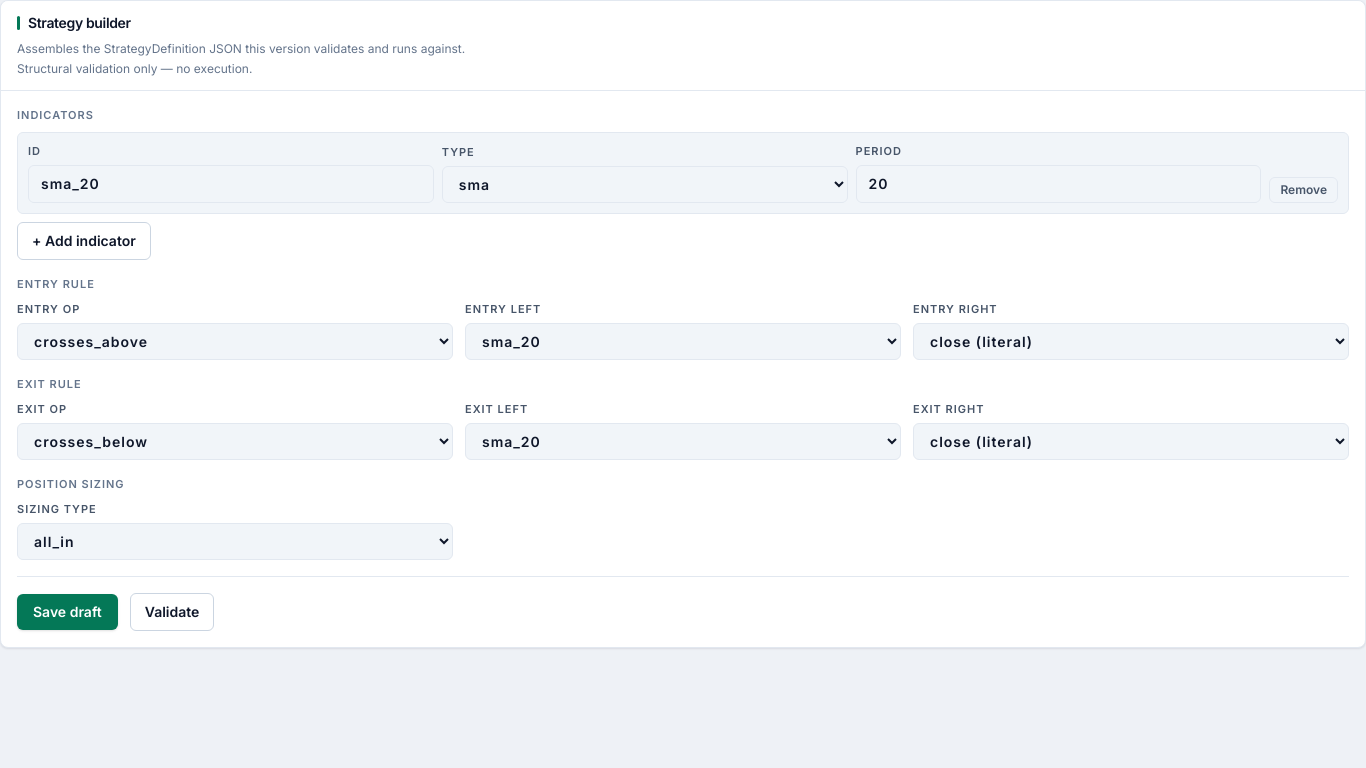
it: StrategyBuilderForm › adds an indicator row with sensible defaults
Click the button "+ Add indicator" at [84, 241], box [17,222,151,260]
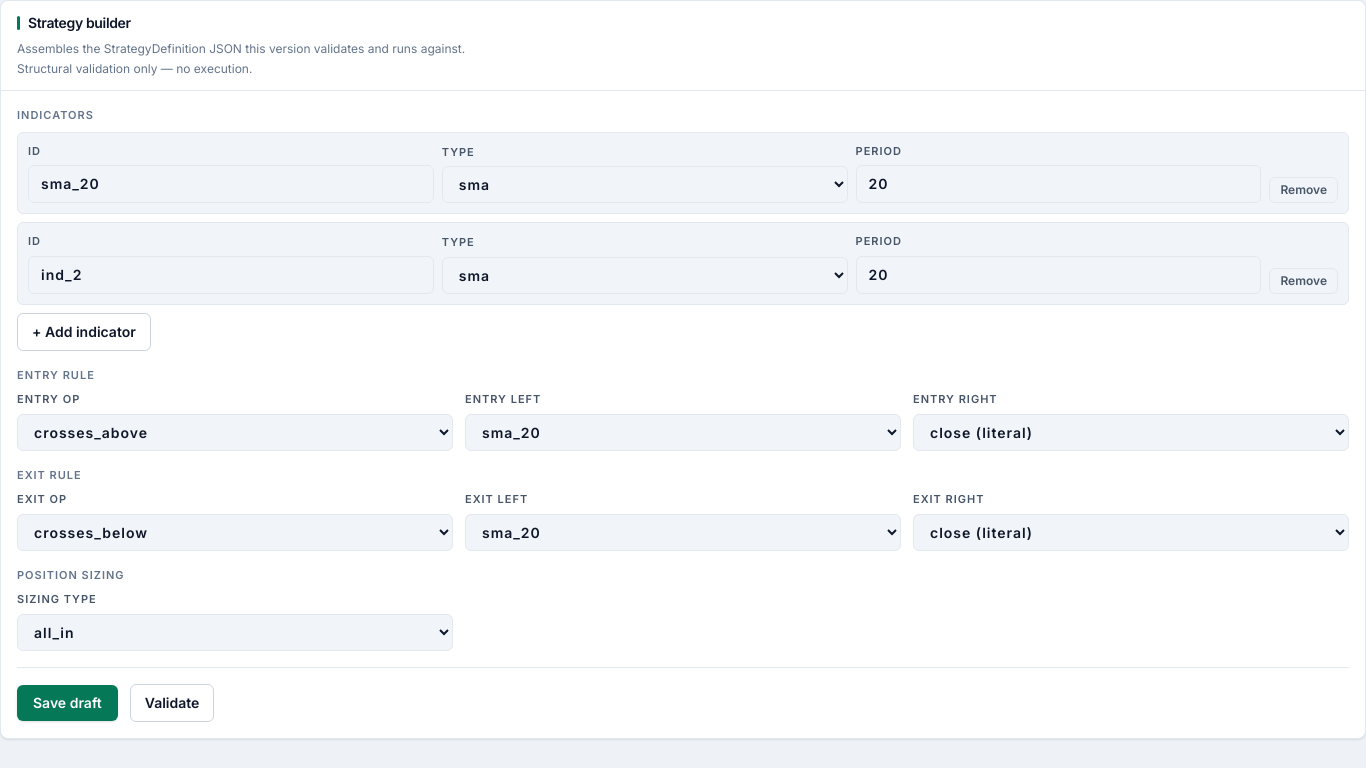
Result: the 2nd field labelled "ID" holds "ind_2" at [28,256,434,294]
Result: the 2nd dropdown labelled "Type" shows "sma" at [442,256,848,294]
Result: the 2nd number field labelled "Period" holds "20" at [856,256,1261,294]
